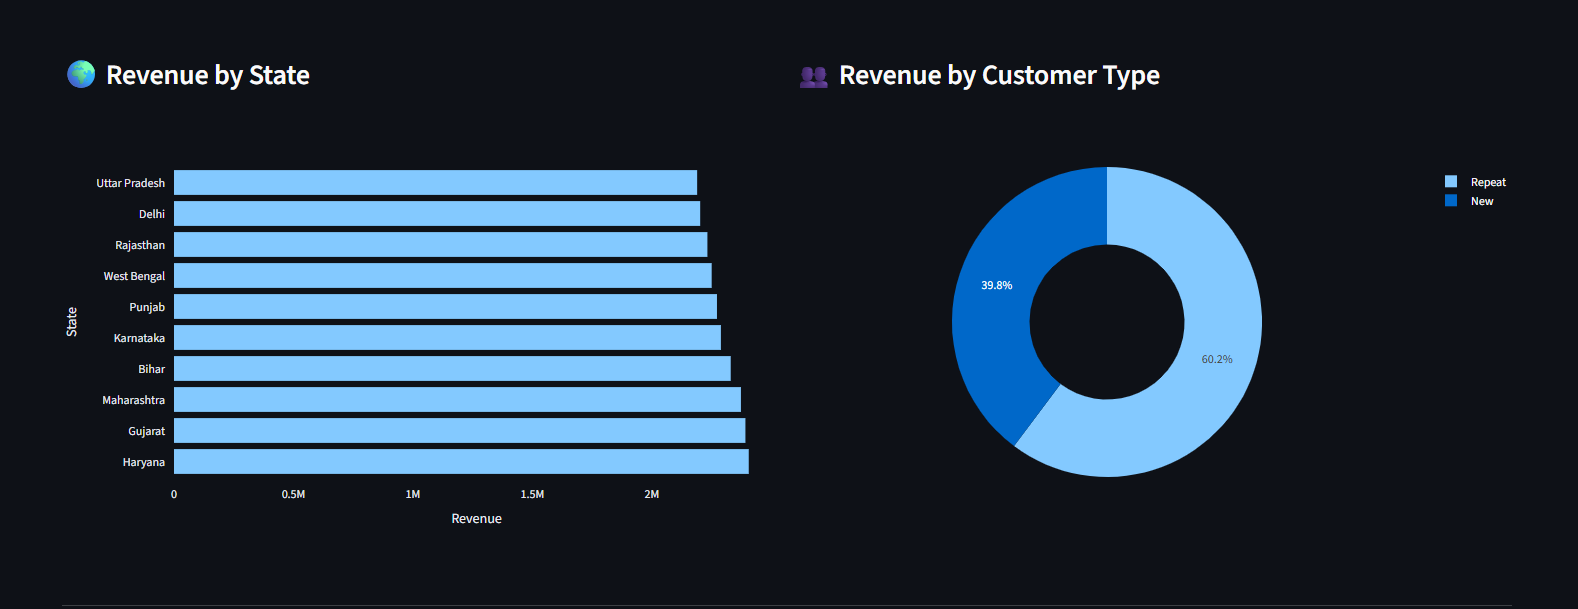

This screenshot's page, from the dashboard's own definition file:
{"tool":"powerbi","page":{"name":"State & Customer Analysis","canvas":[1280,720],"ordinal":1},"visuals":[{"type":"clusteredBarChart","title":"Revenue by State","fields":{"Category":["dashboard_data.State"],"Y":["dashboard_data.Total Revenue"]},"box":[0,0,588.3,638.5],"z":0},{"type":"donutChart","fields":{"Category":["dashboard_data.Customer_Type"],"Y":["dashboard_data.Total Revenue"]},"box":[597.4,0,588.3,638.5],"z":1},{"type":"textbox","box":[389.2,662.8,516.9,57.8],"z":2}]}

Visuals, with their boxes on the page's 1280x720 design canvas (x1, y1, x2, y2). These are canvas units, not pixel positions in the 1578x609 screenshot, which may show the page scaled, cropped or inside an application window:
"Revenue by State" clusteredBarChart: (0, 0, 588, 638)
donutChart - dashboard_data.Customer_Type x dashboard_data.Total Revenue: (597, 0, 1186, 638)
textbox: (389, 663, 906, 721)
